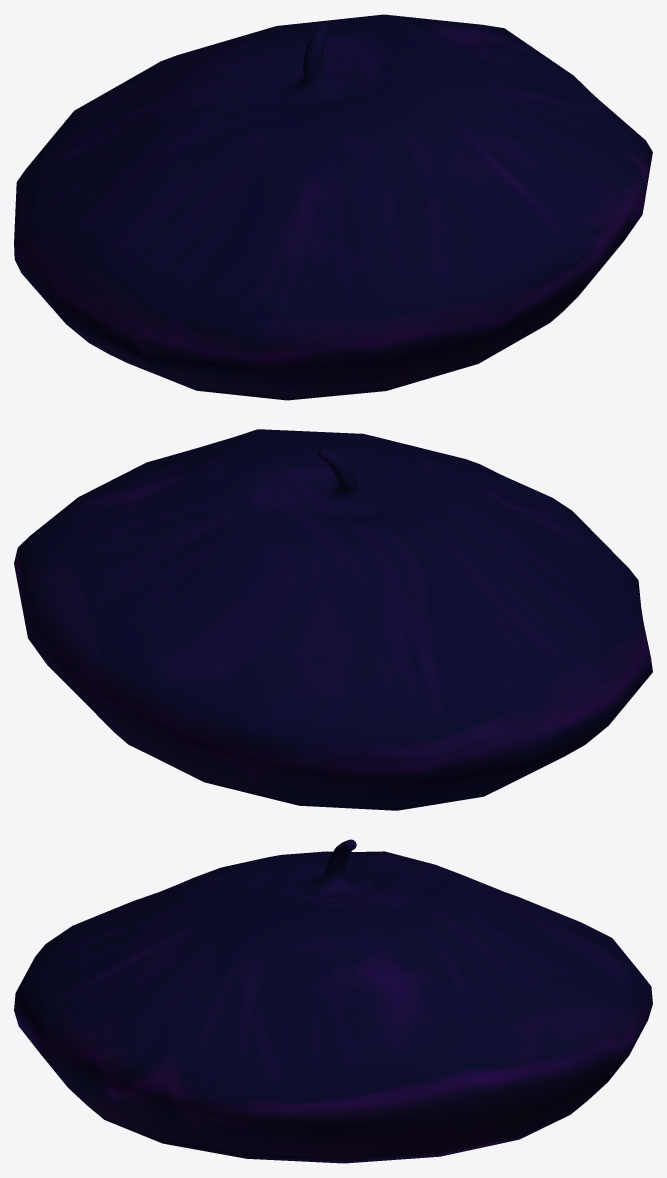
File: hat2.fbx
3 renders of one model, top to bottom at view 1: azimuth 30°, elevation 25°; view 2: azimuth 150°, elevation 25°; view 3: azimuth 270°, elevation 25°, orthographic.
Visible parts, largest first — view 1: Vert; view 2: Vert; view 3: Vert.
Part boxes in pixels (left/top/right/bottom): Vert: left=14, top=14, right=652, bottom=400; Vert: left=14, top=429, right=652, bottom=810; Vert: left=14, top=839, right=652, bottom=1163.
Size of the model in its own units: 149 by 72 by 152.
